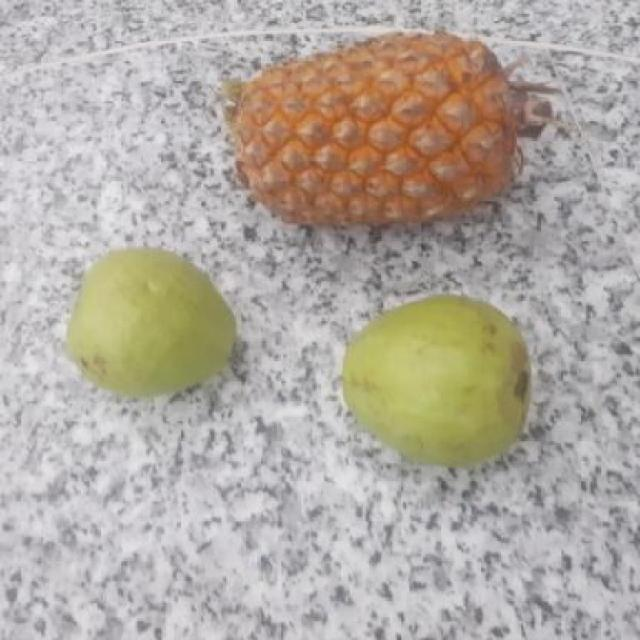guava: (345, 298, 540, 460), (66, 252, 242, 393)
pineapple: (228, 29, 526, 232)
